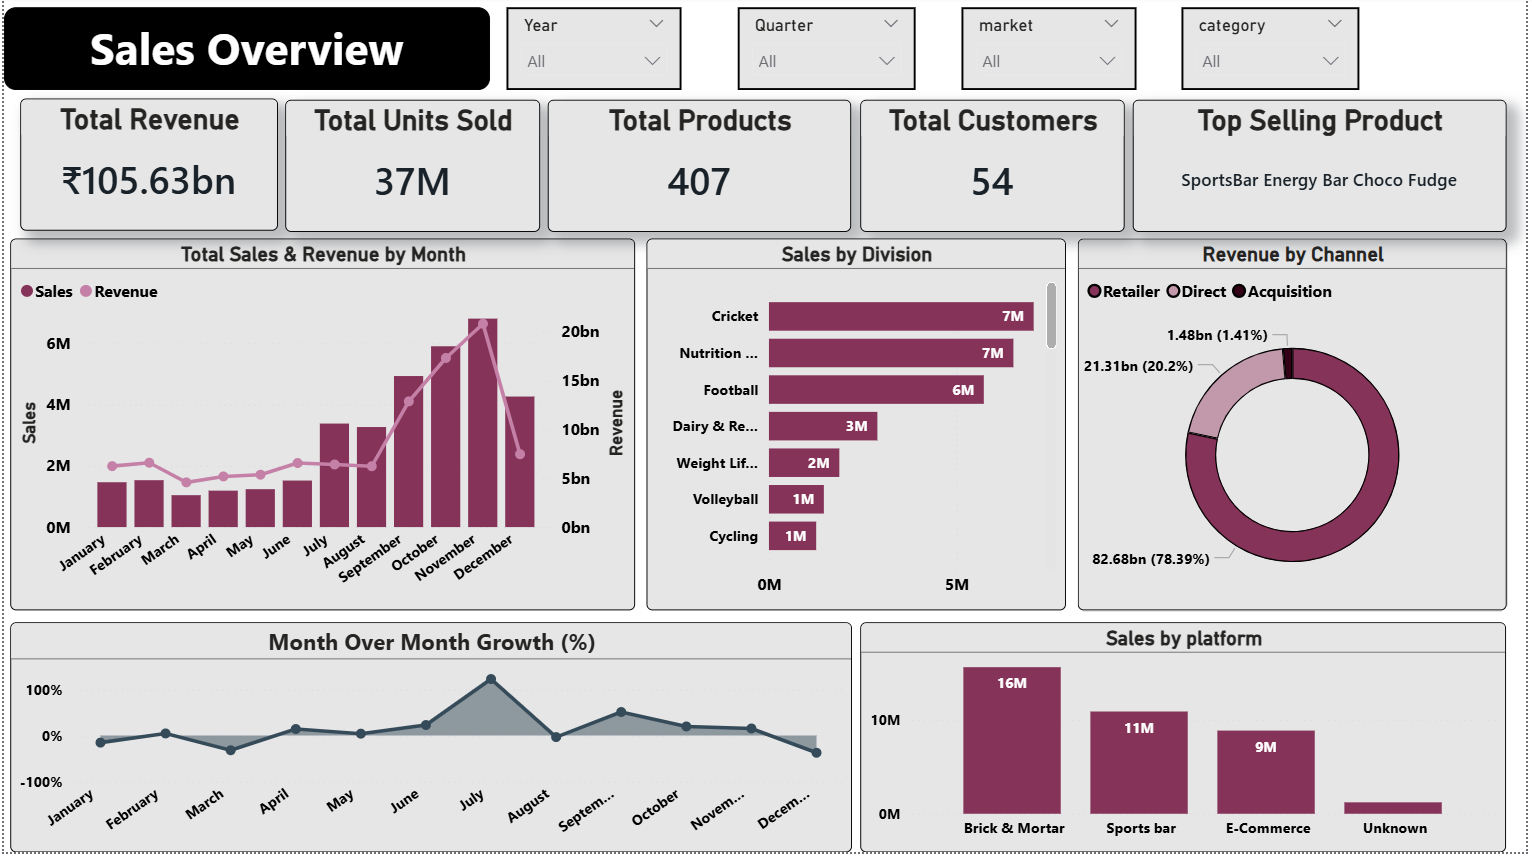

Layout of this report page (visuals, bound fields, positions):
{"tool":"powerbi","page":{"name":"Sales Overview","canvas":[1280,720],"ordinal":0},"visuals":[{"type":"textbox","box":[0,10,409.1,69.8],"z":0},{"type":"cardVisual","title":"Total Revenue","fields":{"Data":["Sum(vw_fact_orders_enriched.total_amount_inr)"]},"box":[13.7,86.4,216.8,111.1],"z":0,"group":"g1"},{"type":"slicer","fields":{"Values":["vw_fact_orders_enriched.date.Variation.Date Hierarchy.Year"]},"box":[422.6,9.6,146.8,70],"z":1000},{"type":"cardVisual","title":"Total Units Sold","fields":{"Data":["Sum(vw_fact_orders_enriched.sold_quantity)"]},"box":[236.8,87,214.1,111.1],"z":1000,"group":"g1"},{"type":"cardVisual","title":"Total Products","fields":{"Data":["_Measures.Total_Unique_products"]},"box":[457.8,87,255.2,111.1],"z":2000,"group":"g1"},{"type":"lineClusteredColumnComboChart","title":"Total Sales & Revenue by Month","fields":{"Category":["vw_fact_orders_enriched.date.Variation.Date Hierarchy.Month"],"Y2":["Sum(vw_fact_orders_enriched.total_amount_inr)"],"Y":["Sum(vw_fact_orders_enriched.sold_quantity)"]},"box":[5.5,204.5,525.6,312.9],"z":2000},{"type":"cardVisual","title":"Total Customers","fields":{"Data":["_Measures.Total_Customers"]},"box":[719.9,87,222.3,111.1],"z":3000,"group":"g1"},{"type":"donutChart","title":"Revenue by Channel","fields":{"Category":["vw_fact_orders_enriched.channel"],"Y":["Sum(vw_fact_orders_enriched.total_amount_inr)"]},"box":[902.9,204.5,360.9,312.9],"z":3000},{"type":"lineChart","title":"Month Over Month Growth (%)","fields":{"Category":["vw_fact_orders_enriched.date.Variation.Date Hierarchy.Month"],"Y":["_Measures.Sum of sold_quantity MoM%"]},"box":[5.5,526.9,708.1,193.5],"z":4000},{"type":"slicer","fields":{"Values":["vw_fact_orders_enriched.date.Variation.Date Hierarchy.Quarter"]},"box":[617.5,9.6,149.6,70],"z":5000},{"type":"slicer","fields":{"Values":["vw_fact_orders_enriched.market"]},"box":[805.5,9.6,146.8,70],"z":6000},{"type":"group","id":"g1","title":"Group 1","box":[13.7,86.4,1250.1,111.1],"z":7000},{"type":"barChart","title":"Sales by Division","fields":{"Category":["vw_fact_orders_enriched.division"],"Y":["Sum(vw_fact_orders_enriched.sold_quantity)"]},"box":[540.7,204.5,352.7,312.9],"z":8000},{"type":"slicer","fields":{"Values":["vw_fact_orders_enriched.category"]},"box":[990.7,9.6,149.6,70],"z":9000},{"type":"cardVisual","title":"Top Selling Product","fields":{"Data":["_Measures.Top_Selling_Product"]},"box":[949,87,314.2,111.1],"z":9003,"group":"g1"},{"type":"clusteredColumnChart","title":"Sales by platform","fields":{"Y":["Sum(vw_fact_orders_enriched.sold_quantity)"],"Category":["vw_fact_orders_enriched.platform"]},"box":[720.4,526.9,543.4,193.5],"z":10000}]}

Visuals, with their boxes in screenshot pixels (x1, y1, x2, y2), scaled from the page's 1280x720 canvas onto the 1532x856 screenshot:
textbox: box=[0, 12, 490, 95]
"Total Revenue" cardVisual: box=[16, 103, 276, 235]
slicer - vw_fact_orders_enriched.date.Variation.Date Hierarchy.Year: box=[506, 11, 682, 95]
"Total Units Sold" cardVisual: box=[283, 103, 540, 236]
"Total Products" cardVisual: box=[548, 103, 853, 236]
"Total Sales & Revenue by Month" lineClusteredColumnComboChart: box=[7, 243, 636, 615]
"Total Customers" cardVisual: box=[862, 103, 1128, 236]
"Revenue by Channel" donutChart: box=[1081, 243, 1513, 615]
"Month Over Month Growth (%)" lineChart: box=[7, 626, 854, 855]
slicer - vw_fact_orders_enriched.date.Variation.Date Hierarchy.Quarter: box=[739, 11, 918, 95]
slicer - vw_fact_orders_enriched.market: box=[964, 11, 1140, 95]
"Group 1" group: box=[16, 103, 1513, 235]
"Sales by Division" barChart: box=[647, 243, 1069, 615]
slicer - vw_fact_orders_enriched.category: box=[1186, 11, 1365, 95]
"Top Selling Product" cardVisual: box=[1136, 103, 1512, 236]
"Sales by platform" clusteredColumnChart: box=[862, 626, 1513, 855]
